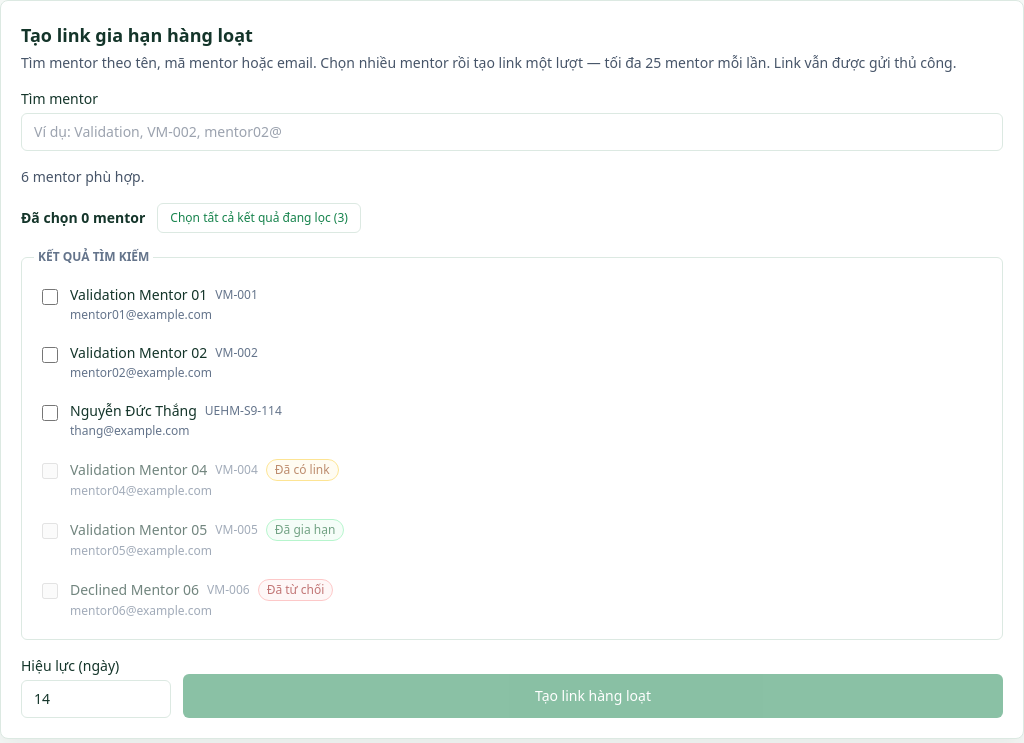
Scenario: M075 picker — selection › removes one mentor from the selection via its chip
This screenshot has width=1024, height=743.
What coordinates should you click on to do the following:
click the checkbox labelled "Validation Mentor 01 VM-001 mentor01@example.com"
I would click on:
 (50, 297)
Its box is [42,289,58,305].
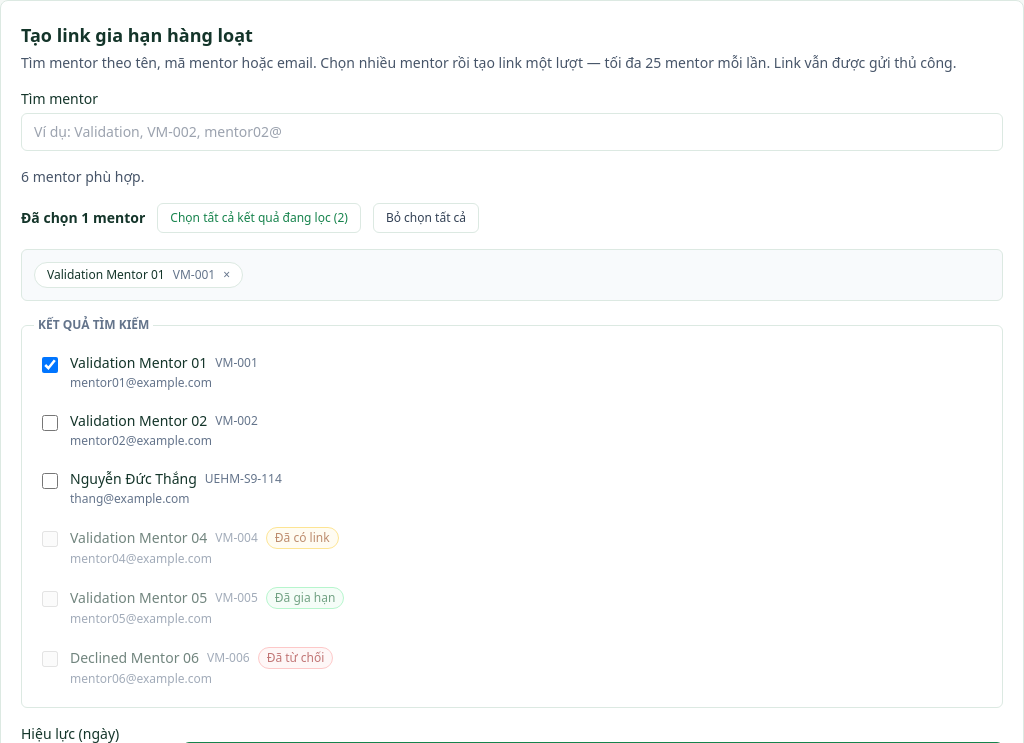
What coordinates should you click on to do the following:
click the button named "Bỏ chọn Validation Mentor 01"
I would click on:
 (227, 275)
Its box is [223,267,230,283].
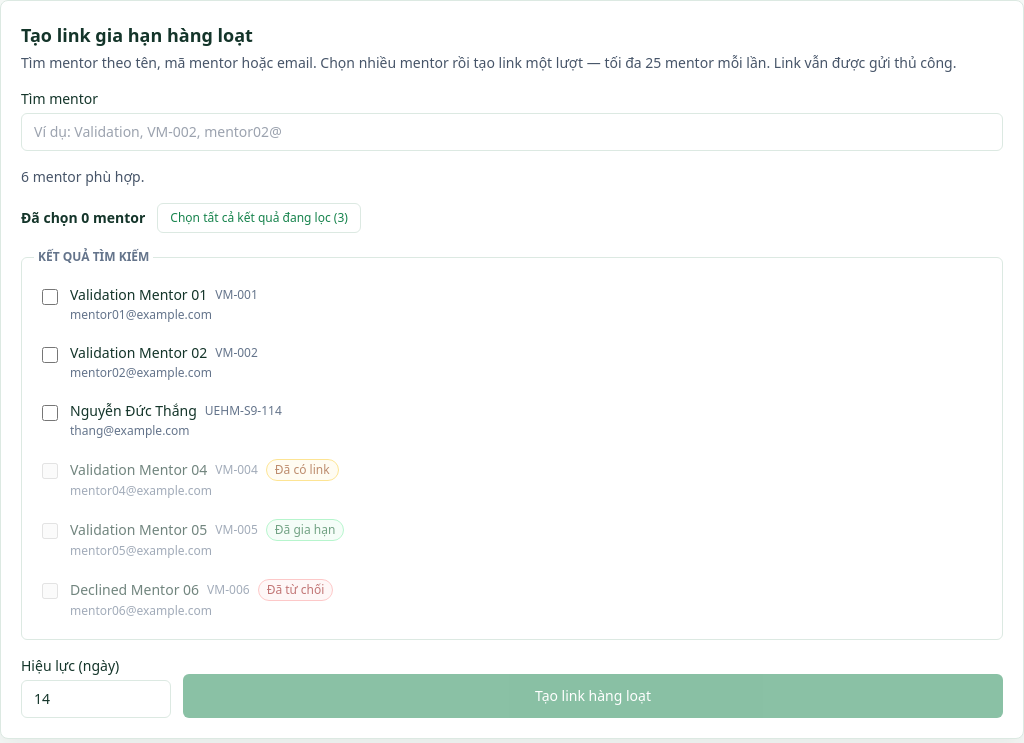
Result: the text "Đã chọn 0 mentor" is shown at [21,208,145,228]
